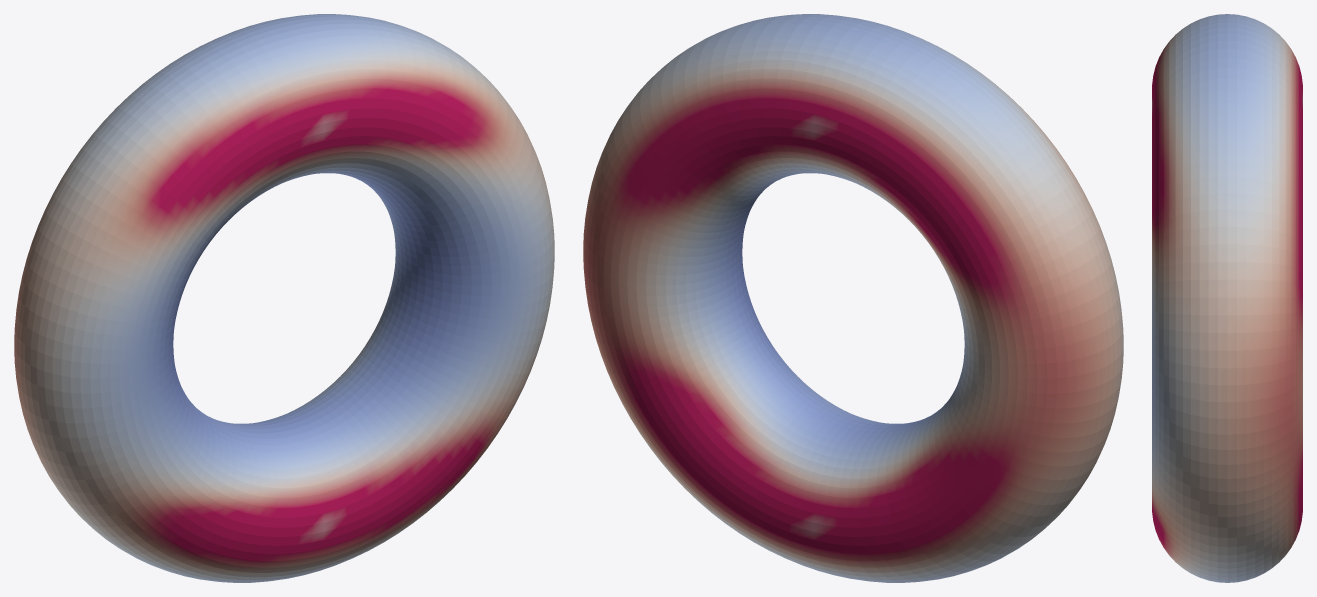
3 renders of one model, left to right at view 1: azimuth 30°, elevation 25°; view 2: azimuth 150°, elevation 25°; view 3: azimuth 270°, elevation 25°, orthographic. The views are drawn at different scales.
Parts seen in each view (by area): view 1: world; view 2: world; view 3: world.
Boxes of the visible parts, <box> form: world: <box>14,14,554,582</box>; world: <box>583,14,1123,582</box>; world: <box>1152,14,1302,582</box>.
Bounding box in the file's own units: 23.6 × 23.6 × 6.25.
